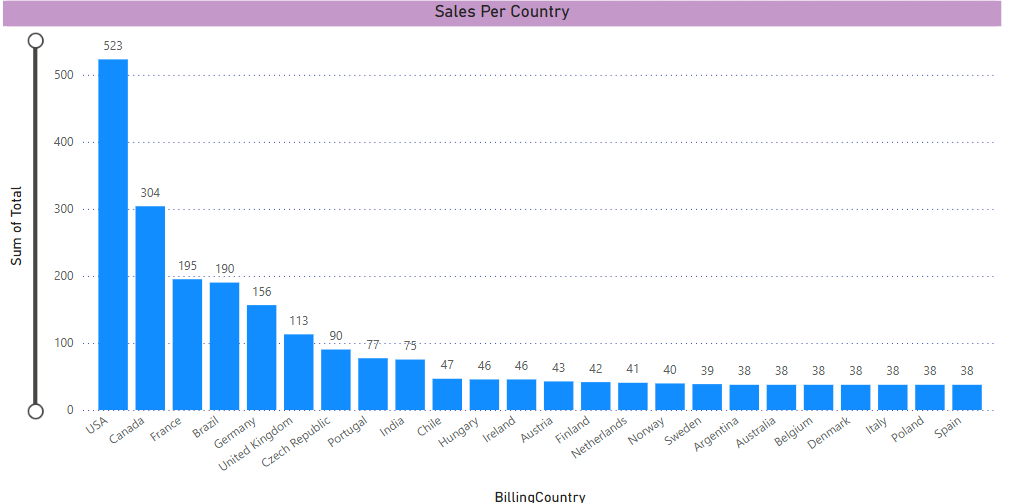

What the dashboard file says about the page in this screenshot:
{"tool":"powerbi","page":{"name":"Sales per Country","canvas":[1280,720],"ordinal":0},"visuals":[{"type":"clusteredColumnChart","title":"Sales Per Country","fields":{"Category":["Invoice.BillingCountry"],"Y":["Sum(Invoice.Total)"]},"box":[207.7,126.9,993.9,507.5],"z":0}]}

Visuals, with their boxes on the page's 1280x720 design canvas (x1, y1, x2, y2). These are canvas units, not pixel positions in the 1012x503 screenshot, which may show the page scaled, cropped or inside an application window:
"Sales Per Country" clusteredColumnChart: 208:127:1202:634
